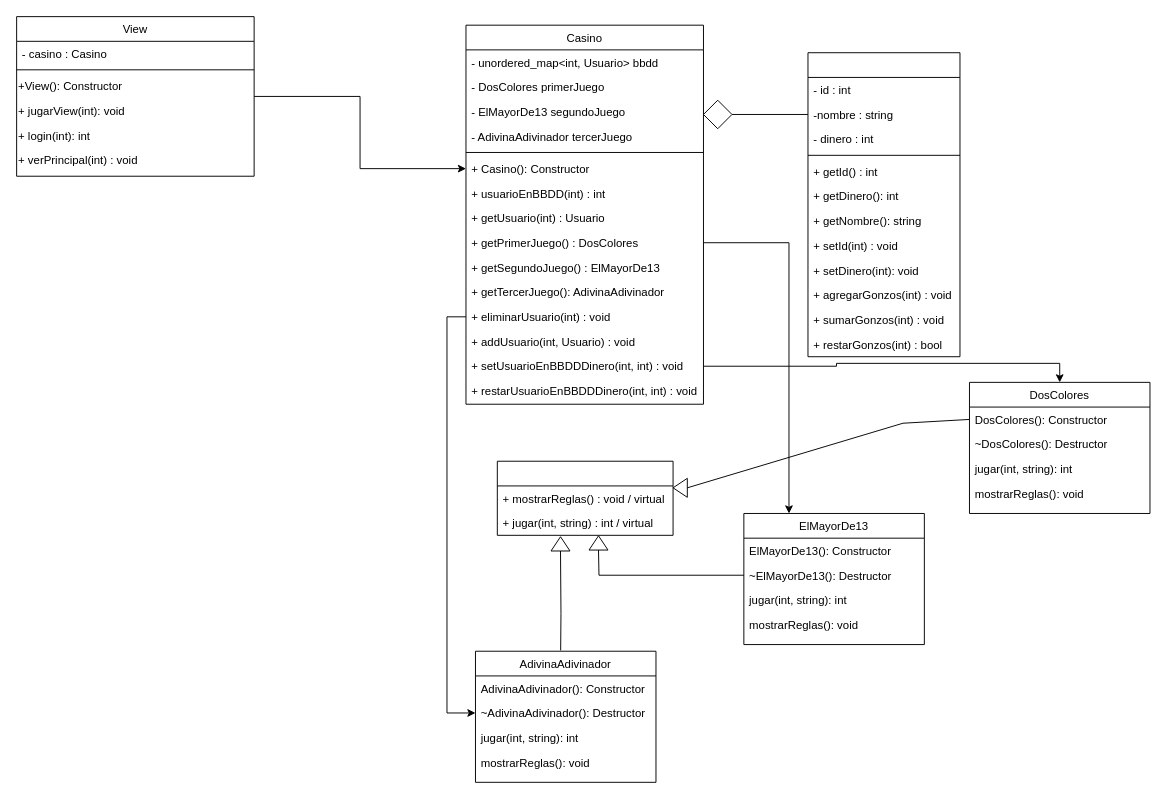
This 1167x799 diagram has some shape labels left out. Here are the shapes that lost their labels. From the top down, the box of each, then its label:
(807, 52, 960, 357): Usuario
(496, 460, 673, 535): Juego
